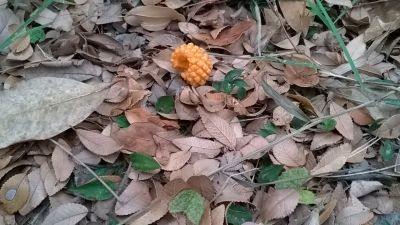eggs: (170, 44, 213, 86)
